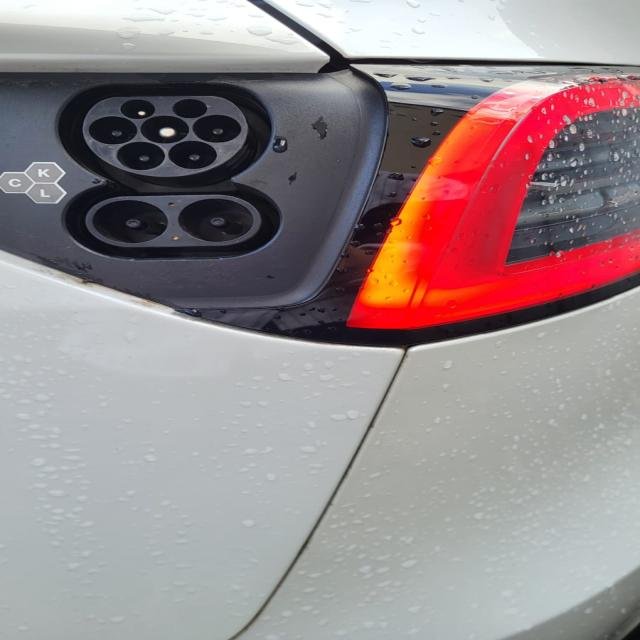inlet: (83, 96, 248, 177)
inlet-above-left: (120, 100, 156, 119)
inlet-above-right: (173, 99, 207, 118)
inlet-below-left: (117, 142, 165, 170)
inlet-below-right: (168, 141, 217, 170)
inlet-circle: (141, 116, 189, 143)
inlet-circle-left: (89, 116, 137, 145)
inlet-circle-right: (192, 115, 241, 143)
inlet-minus: (179, 198, 254, 243)
inlet-plus: (92, 200, 168, 244)
